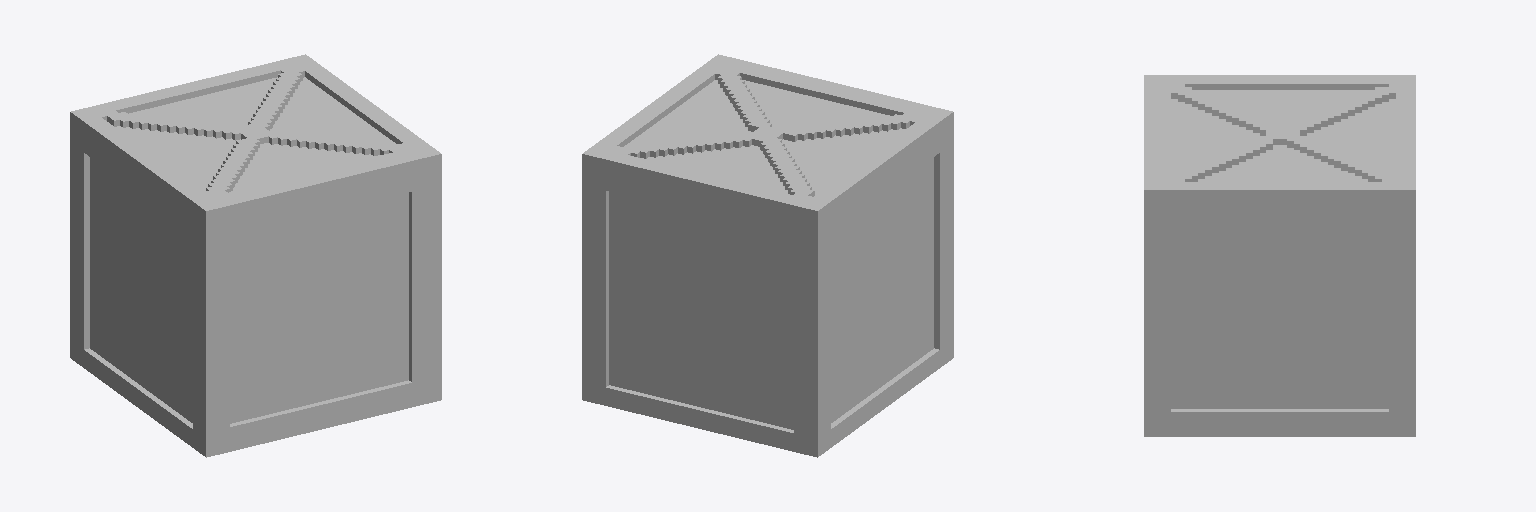
The model's file is jump.obj.
The picture shows the model from 3 angles: view 1: azimuth 30°, elevation 25°; view 2: azimuth 150°, elevation 25°; view 3: azimuth 270°, elevation 25°; orthographic projection.
Visible parts, largest first — view 1: object 1; view 2: object 1; view 3: object 1.
Boxes of the visible parts, <box> form: object 1: <box>70,54,441,457</box>; object 1: <box>582,54,953,457</box>; object 1: <box>1144,75,1415,436</box>.
Bounding box in the file's own units: 4 × 4 × 4.